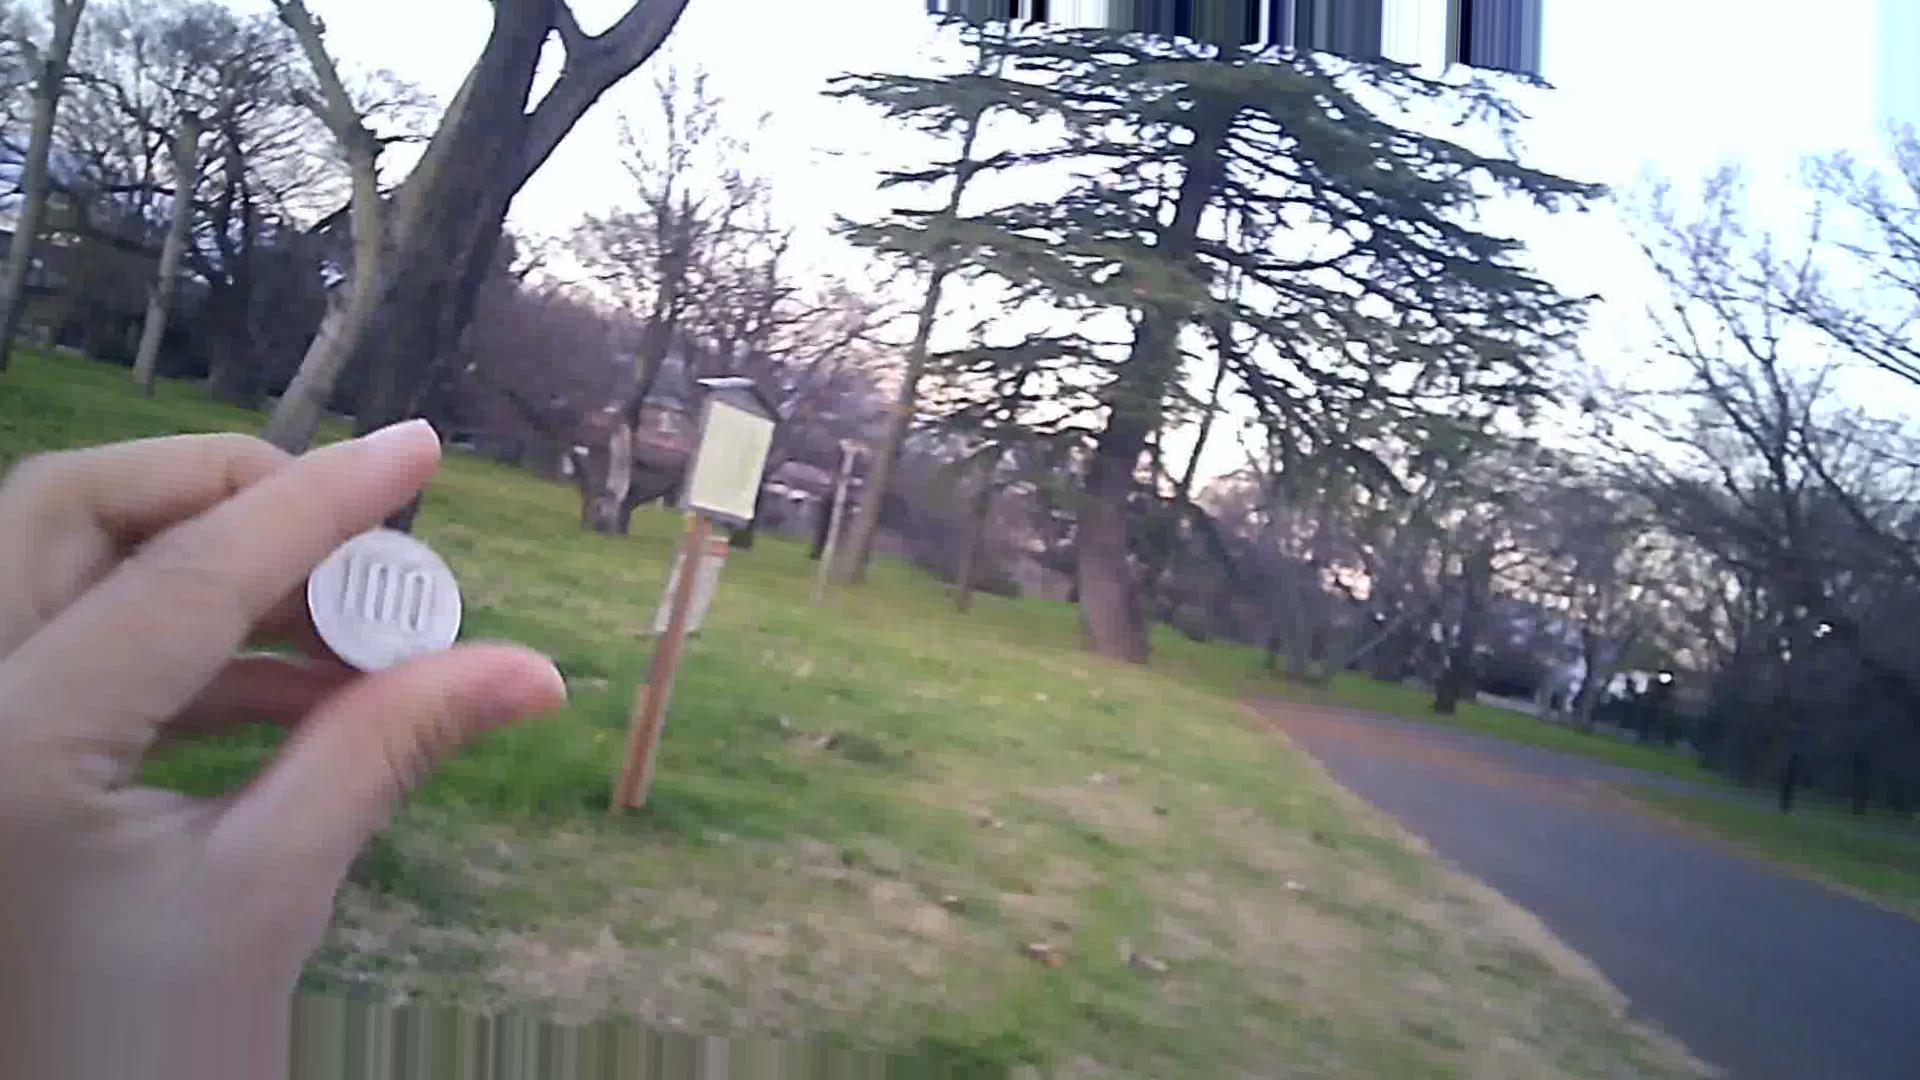100 Yen: (287, 520, 460, 673)
